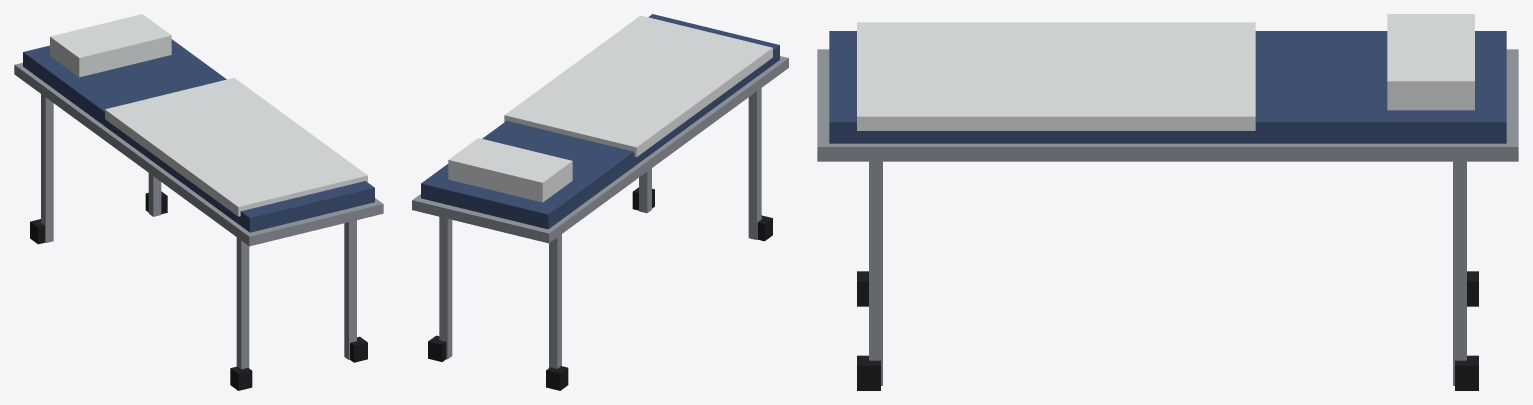
File: hos-maca.gltf
3 renders of one model, left to right at view 1: azimuth 30°, elevation 25°; view 2: azimuth 150°, elevation 25°; view 3: azimuth 270°, elevation 25°, orthographic. The views are drawn at different scales.
Visible parts, largest first — view 1: hos-maca; view 2: hos-maca; view 3: hos-maca.
Part boxes in pixels (x1,y1,x2,y2): hos-maca: [14, 14, 383, 390]; hos-maca: [412, 14, 788, 390]; hos-maca: [817, 14, 1518, 390].
Size of the model in its own units: 0.58 by 0.82 by 1.76.
